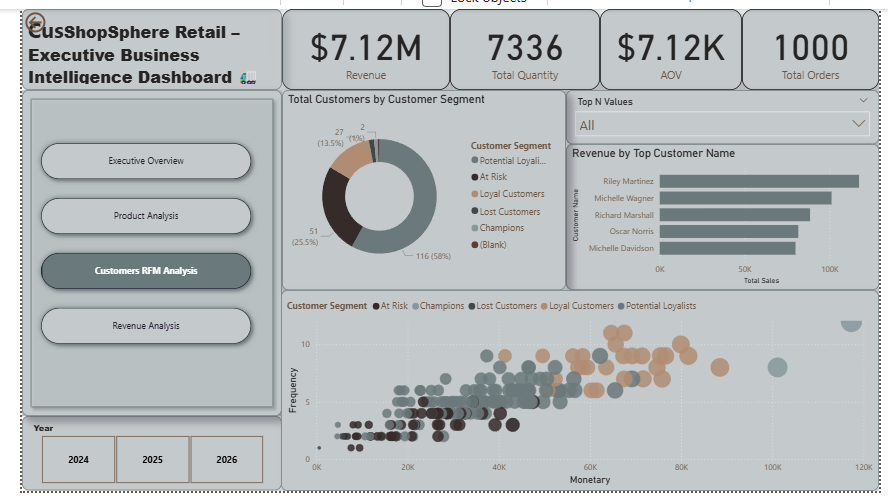

This screenshot's page, from the dashboard's own definition file:
{"tool":"powerbi","page":{"name":"Customers RFM Analysis","canvas":[1280,720],"ordinal":2},"visuals":[{"type":"card","fields":{"Values":["Dim_order_items.Total Revenue"]},"box":[388.4,0,251,121],"z":0},{"type":"shape","box":[0,121,388.4,487],"z":0,"group":"g1"},{"type":"card","fields":{"Values":["Dim_customers.Total Quantity"]},"box":[639.3,0,224.1,121],"z":1000},{"type":"card","fields":{"Values":["Dim_customers.AOV"]},"box":[863.4,0,212.1,121],"z":2000},{"type":"card","fields":{"Values":["Dim_customers.Total Orders"]},"box":[1075.5,0,204.6,121],"z":3000},{"type":"textbox","box":[0,0,388.4,121],"z":4000},{"type":"slicer","fields":{"Values":["Top N Values.Top N Values"]},"box":[812.6,121,467.6,80.7],"z":5000},{"type":"clusteredBarChart","title":"Revenue by Top Customer Name","fields":{"Category":["customers.customer_name"],"Y":["order_items.Total Sales"]},"box":[812.6,201.7,467.6,218.1],"z":6000},{"type":"slicer","fields":{"Values":["DateTable.Year"]},"box":[0,608,388.4,110.5],"z":7000},{"type":"group","id":"g1","title":"Group 1","box":[0,121,388.4,487],"z":8000},{"type":"donutChart","fields":{"Category":["Customer Summary.Customer Segment"],"Y":["customers.Total Customers"]},"box":[388.4,121,424.2,298.8],"z":10000},{"type":"pageNavigator","box":[20.1,191.9,332.5,321.2],"z":10000,"group":"g1"},{"type":"actionButton","box":[0,0,100,40],"z":11000},{"type":"scatterChart","fields":{"Y":["dim_Customer Summary.Frequency"],"Series":["dim_Customer Summary.Customer Segment"],"X":["dim_Customer Summary.Monetary"],"Size":["Measure Table.Total Sales"]},"box":[386.9,419.8,893.3,300.2],"z":11001}]}

Visuals, with their boxes on the page's 1280x720 design canvas (x1, y1, x2, y2). These are canvas units, not pixel positions in the 888x499 screenshot, which may show the page scaled, cropped or inside an application window:
card - Dim_order_items.Total Revenue: region(388, 0, 639, 121)
shape: region(0, 121, 388, 608)
card - Dim_customers.Total Quantity: region(639, 0, 863, 121)
card - Dim_customers.AOV: region(863, 0, 1076, 121)
card - Dim_customers.Total Orders: region(1076, 0, 1280, 121)
textbox: region(0, 0, 388, 121)
slicer - Top N Values.Top N Values: region(813, 121, 1280, 202)
"Revenue by Top Customer Name" clusteredBarChart: region(813, 202, 1280, 420)
slicer - DateTable.Year: region(0, 608, 388, 718)
"Group 1" group: region(0, 121, 388, 608)
donutChart - Customer Summary.Customer Segment x customers.Total Customers: region(388, 121, 813, 420)
pageNavigator: region(20, 192, 353, 513)
actionButton: region(0, 0, 100, 40)
scatterChart - dim_Customer Summary.Frequency x dim_Customer Summary.Customer Segment: region(387, 420, 1280, 720)
